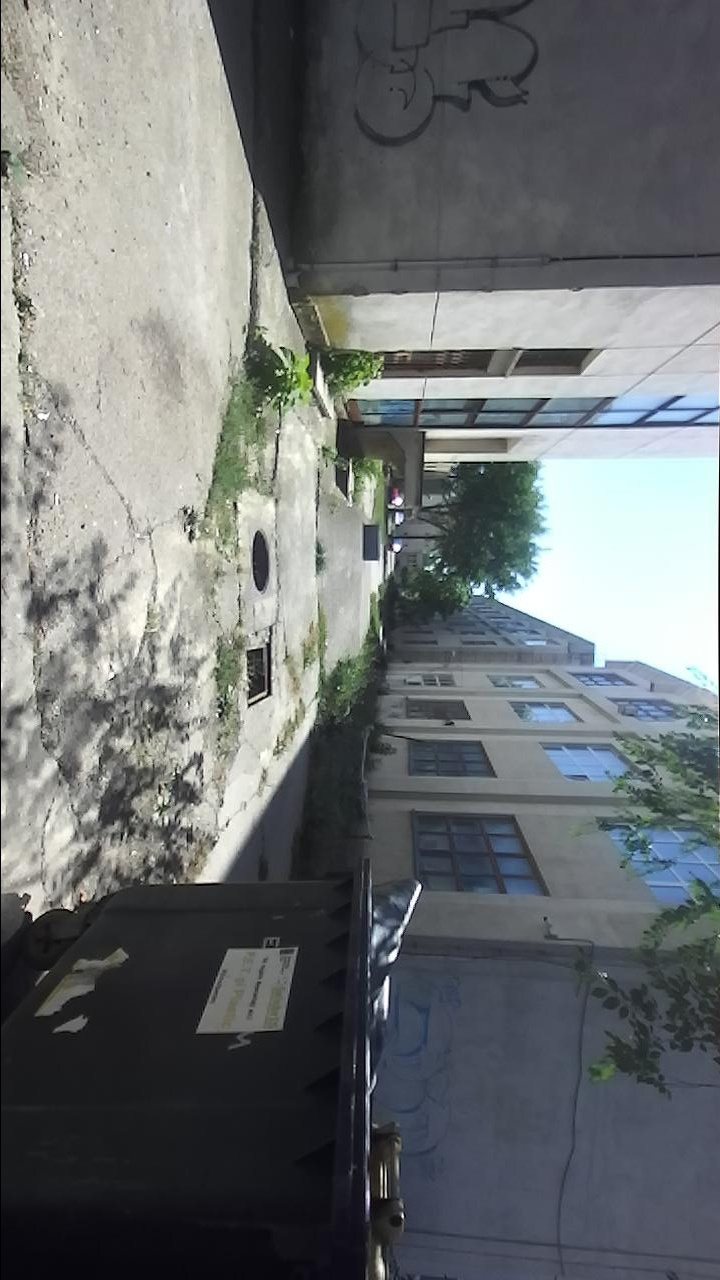drain: (241, 642, 274, 714), (249, 525, 277, 600)
